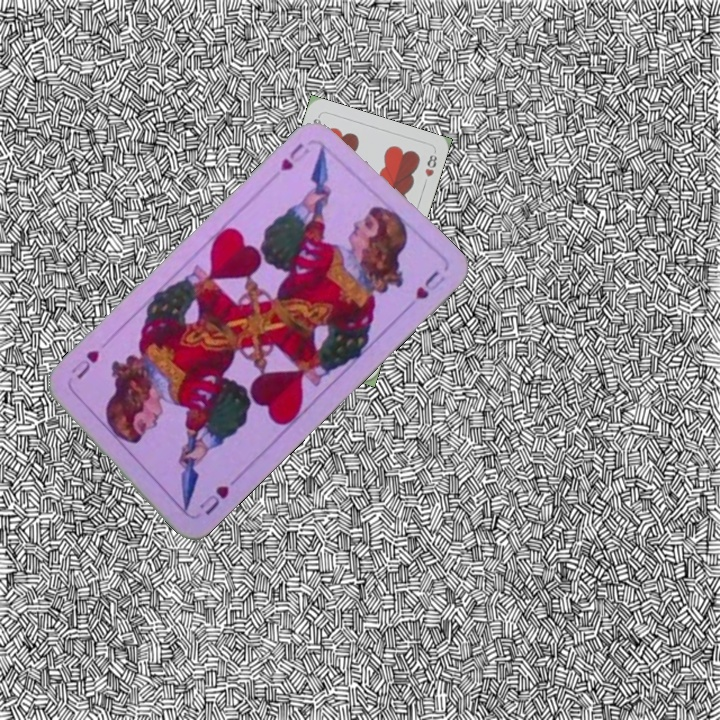HU: (195, 481, 232, 518), (276, 138, 306, 174)
